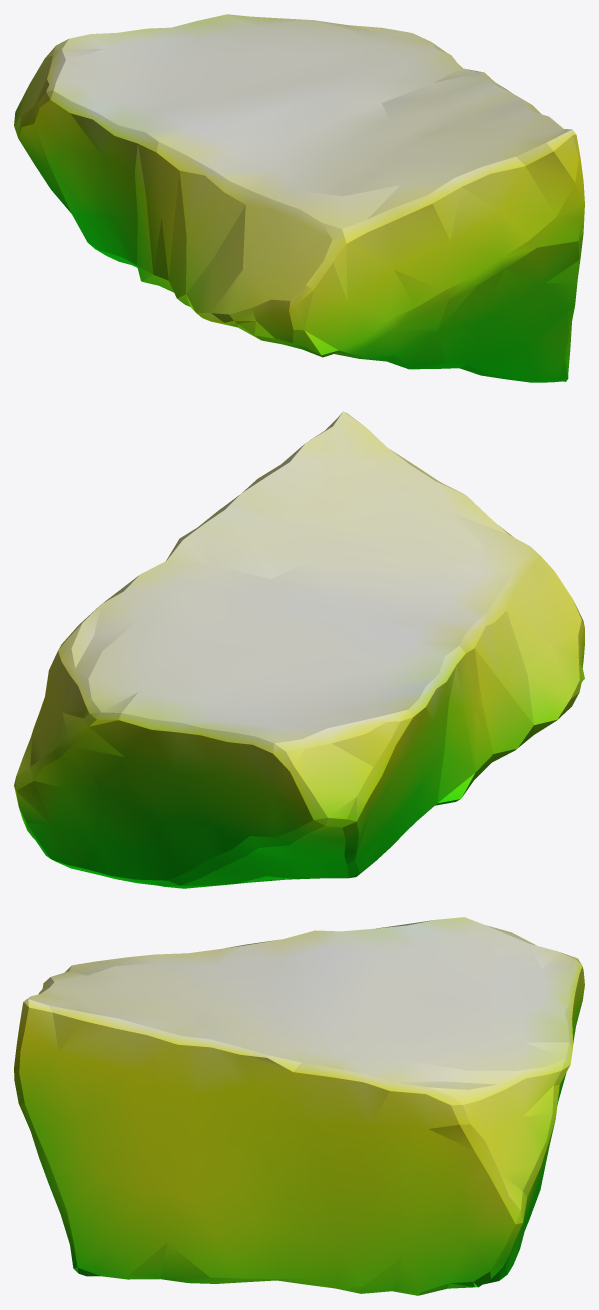
Rendered from rock_solo_02_LOD0.fbx.
3 renders of one model, top to bottom at view 1: azimuth 30°, elevation 25°; view 2: azimuth 150°, elevation 25°; view 3: azimuth 270°, elevation 25°, orthographic. The views are drawn at different scales.
Visible parts, largest first — view 1: LOD0; view 2: LOD0; view 3: LOD0.
Part boxes in pixels (box(x1,y1,x2,y2)): LOD0: box(14, 14, 584, 382); LOD0: box(14, 411, 584, 888); LOD0: box(14, 917, 584, 1295).
Bounding box in the file's own units: 37468 × 27401 × 52688.
